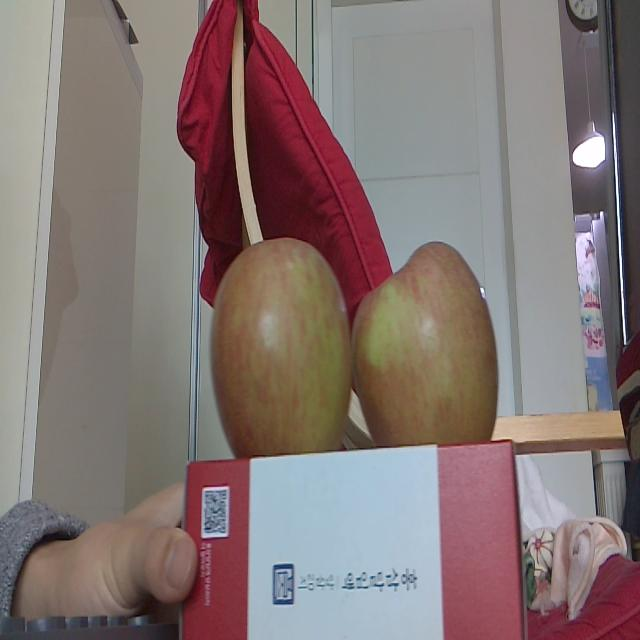apple: (349, 238, 503, 457), (209, 236, 349, 465)
